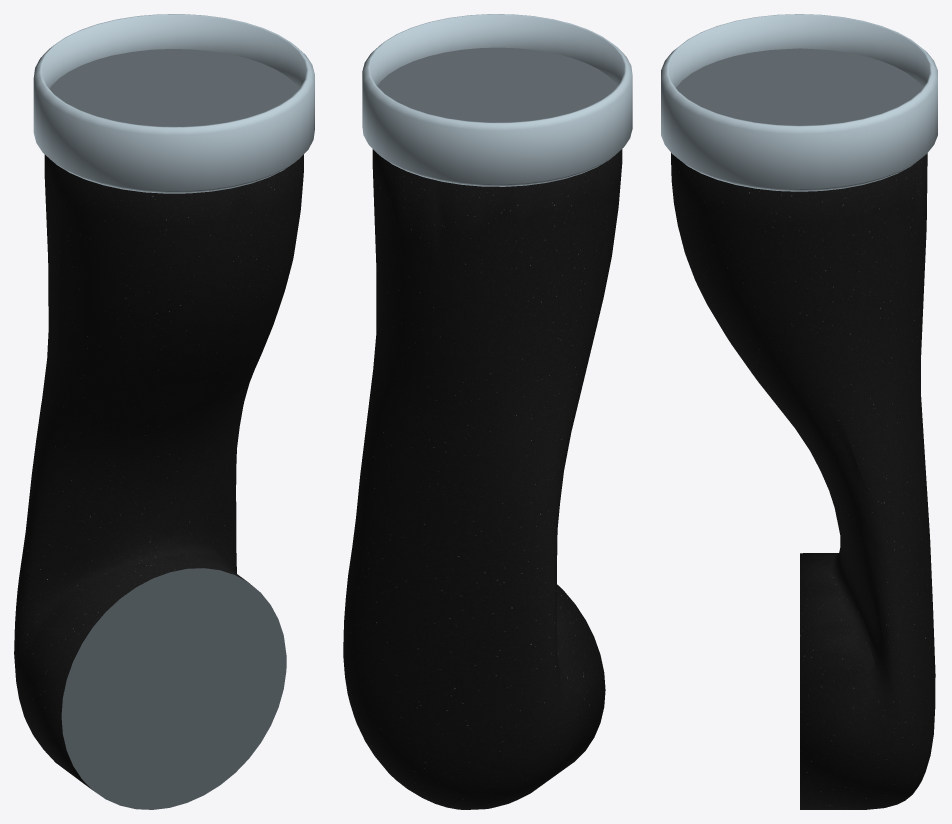
Rendered from arm_half_2.dae.
3 views of the same model, side by side, from view 1: azimuth 30°, elevation 25°; view 2: azimuth 150°, elevation 25°; view 3: azimuth 270°, elevation 25° (orthographic). The views are drawn at different scales.
Parts seen in each view (by area): view 1: node.001, Ring Big; view 2: node.001, Ring Big; view 3: node.001, Ring Big.
Part boxes in pixels (<box>): node.001: <box>14,49,303,809</box>; Ring Big: <box>33,14,314,193</box>; node.001: <box>343,47,622,809</box>; Ring Big: <box>362,14,632,186</box>; node.001: <box>671,48,935,809</box>; Ring Big: <box>661,14,937,191</box>.
Size of the model in its own units: 0.0892 by 0.0889 by 0.2576.
1 material, 1 textured.
